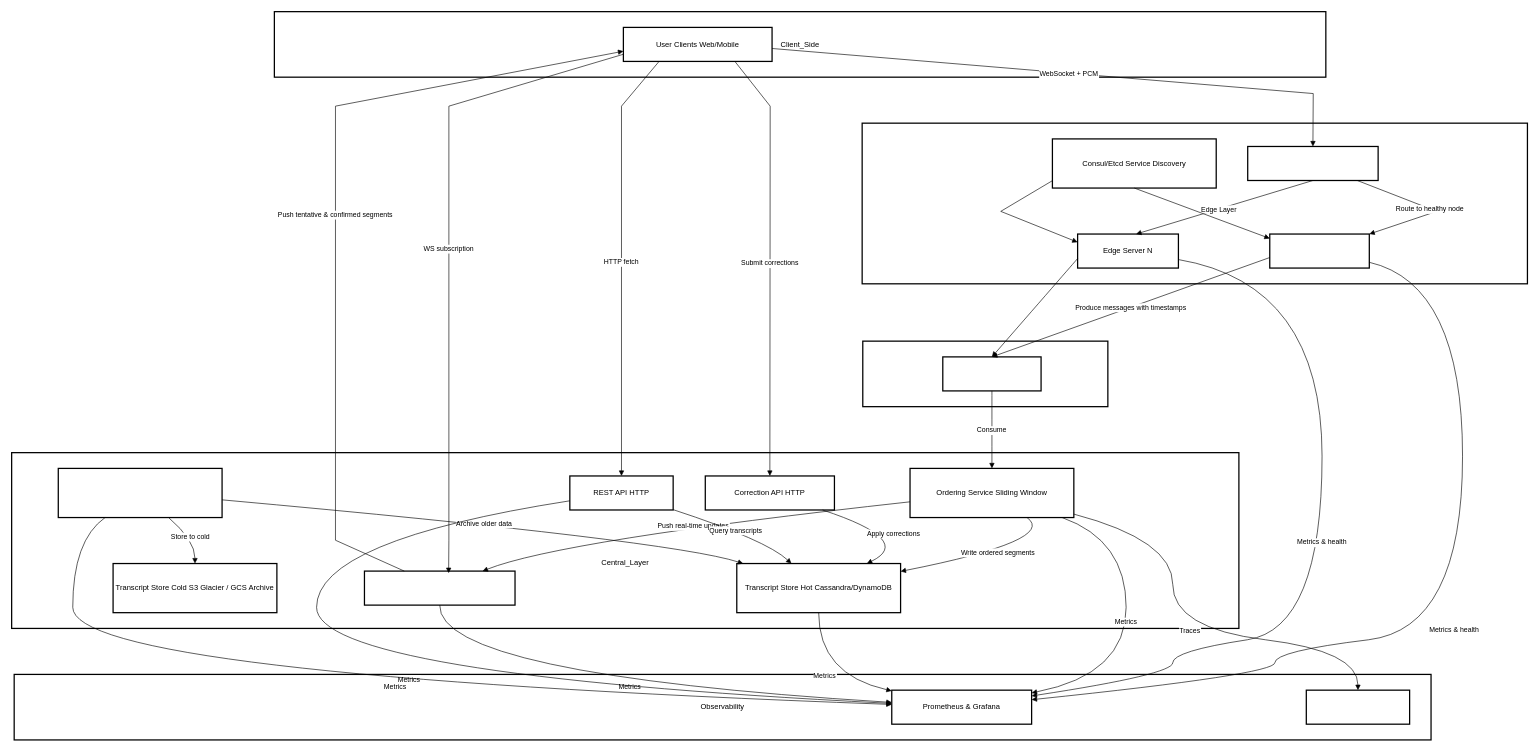
Image size: 1538x751. Some labels were removed from this diagram. The shapes that lost their labels are listed below. From the top down, each one's centre as x and y in pixels, then its label:
At point (1312, 163): "Envoy Load Balancer".
At point (1319, 250): "Edge Server 1".
At point (991, 373): "Kafka Cluster".
At point (139, 492): "Data Lifecycle Job scheduled batch/stream".
At point (439, 587): "Real-time API WebSocket".
At point (1357, 706): "Jaeger Tracing".
